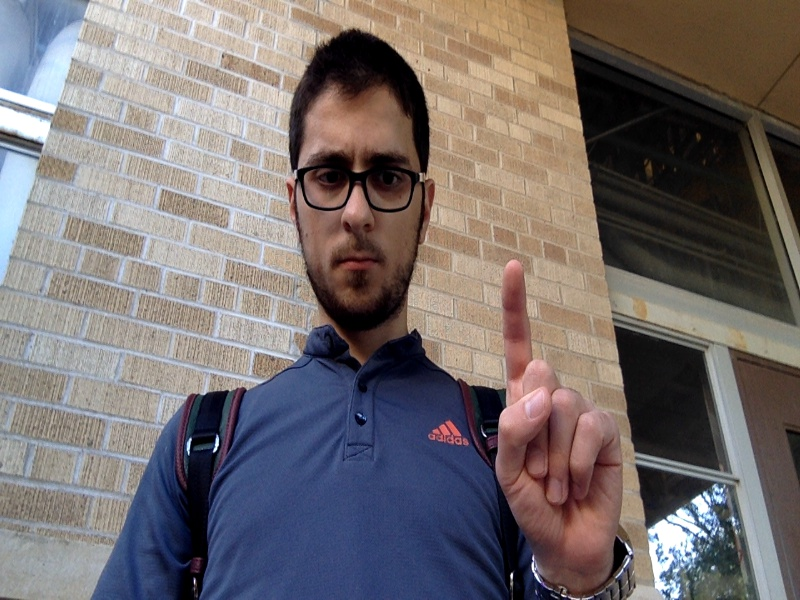1-hand: (494, 261, 621, 581)
